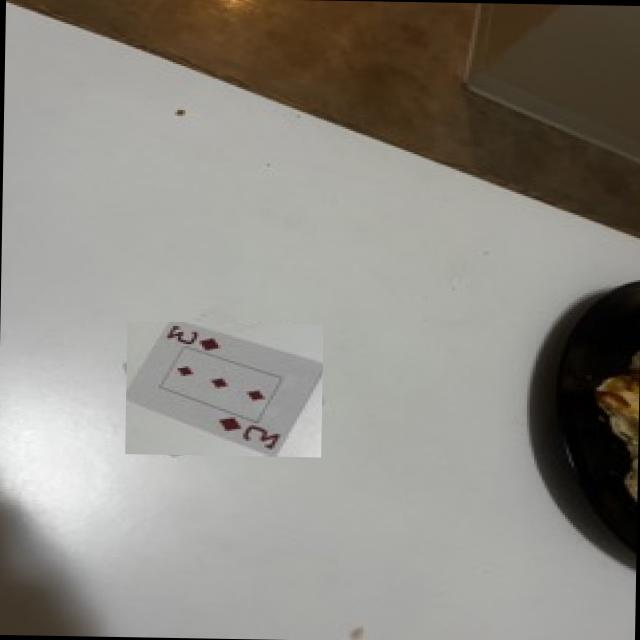3 of diamonds: (126, 322, 322, 455)
